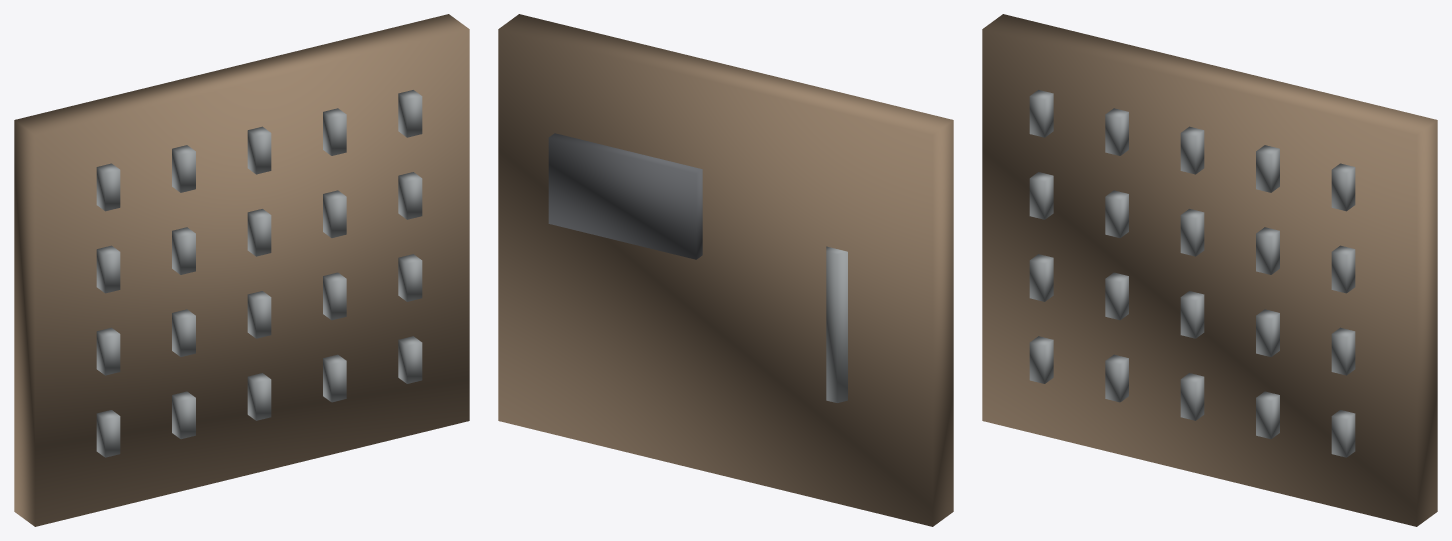
Rendered from key_cubby_rack__service.glb.
The picture shows the model from 3 angles, left to right: view 1: azimuth 30°, elevation 25°; view 2: azimuth 150°, elevation 25°; view 3: azimuth 330°, elevation 25°; orthographic projection.
Visible parts, largest first — view 1: world; view 2: world; view 3: world.
Boxes of the visible parts, x1,y1,x2,y2 form: world: (14,14,469,526); world: (498,14,953,526); world: (982,14,1437,526).
Bounding box in the file's own units: 0.72 × 0.62 × 0.11.
